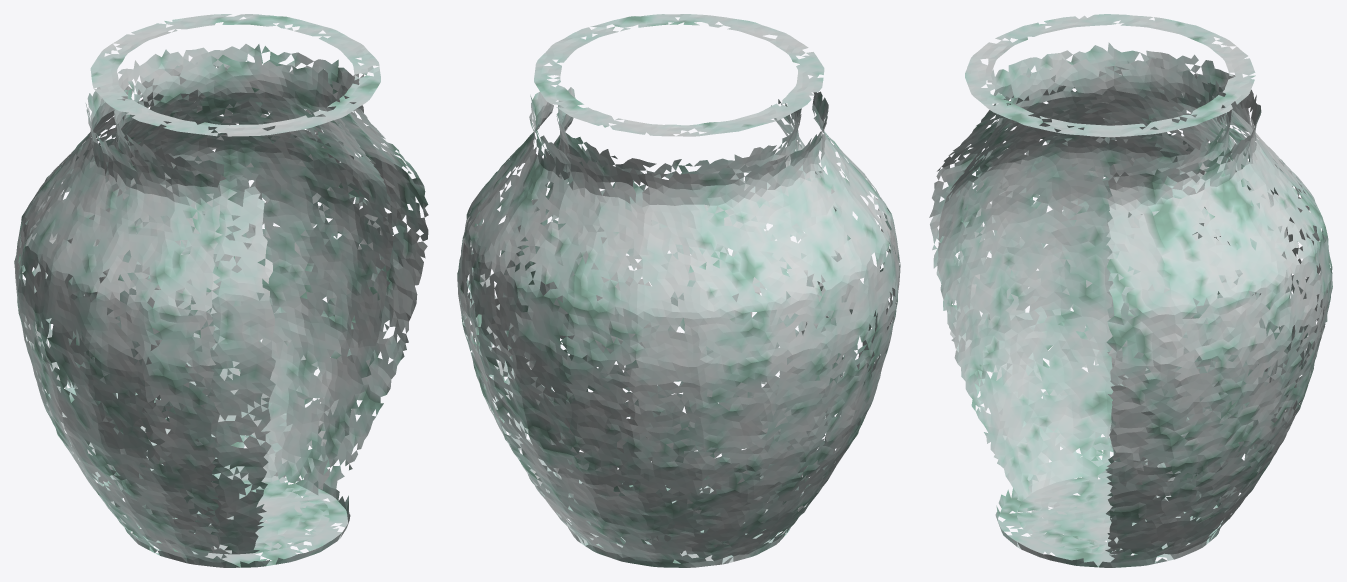
Rendered from vase2_final100.obj.
3 views of the same model, side by side, from view 1: azimuth 30°, elevation 25°; view 2: azimuth 150°, elevation 25°; view 3: azimuth 270°, elevation 25° (orthographic).
Bounding box in the file's own units: 1.53 × 1.69 × 1.39.
